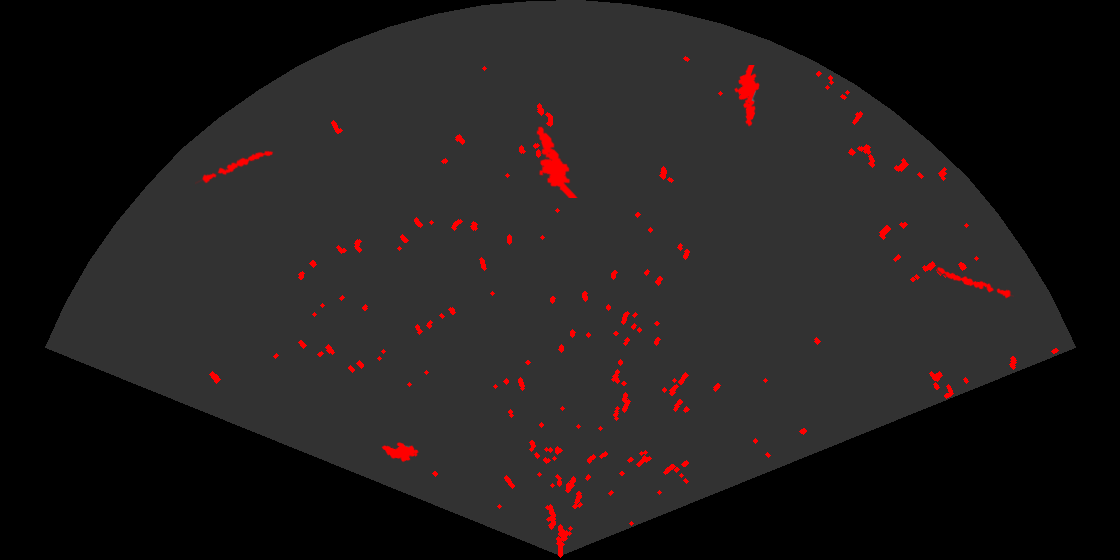AUV: (380, 441, 421, 464)
chain: (195, 149, 276, 186), (934, 266, 1014, 300)
frogman: (535, 125, 579, 198), (733, 65, 761, 128)
